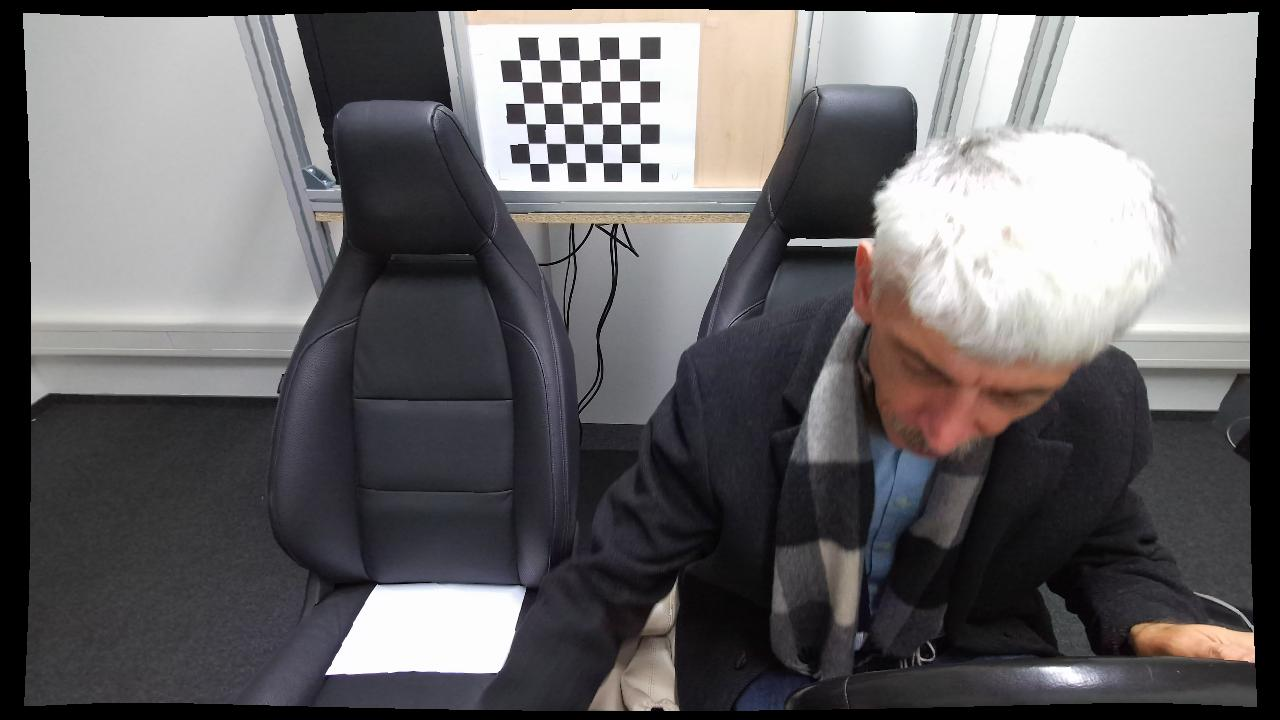Distracted: (472, 122, 1181, 708)
